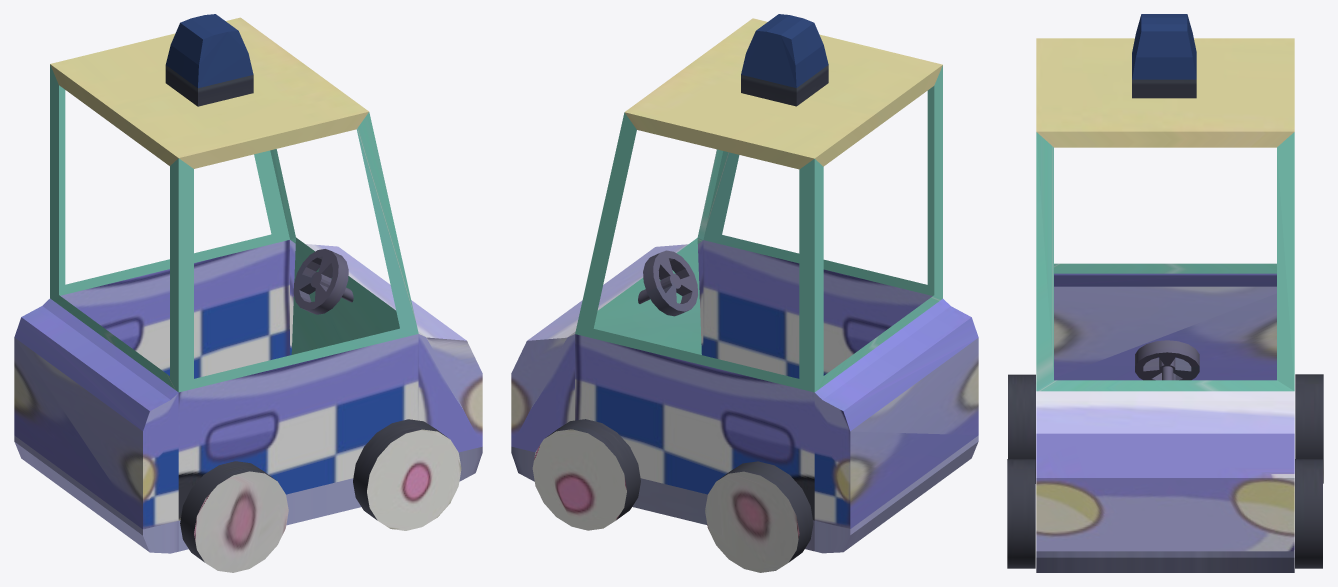
The model's file is Carro_Muffin.obj.
3 renders of one model, left to right at view 1: azimuth 30°, elevation 25°; view 2: azimuth 150°, elevation 25°; view 3: azimuth 270°, elevation 25°, orthographic.
Parts seen in each view (by area): view 1: Object001; view 2: Object001; view 3: Object001.
Part boxes in pixels (x1=…): Object001: x1=14, y1=14, x2=482, y2=572; Object001: x1=511, y1=14, x2=978, y2=572; Object001: x1=1007, y1=14, x2=1323, y2=572.
Bounding box in the file's own units: 12.19 × 16.39 × 9.79.
